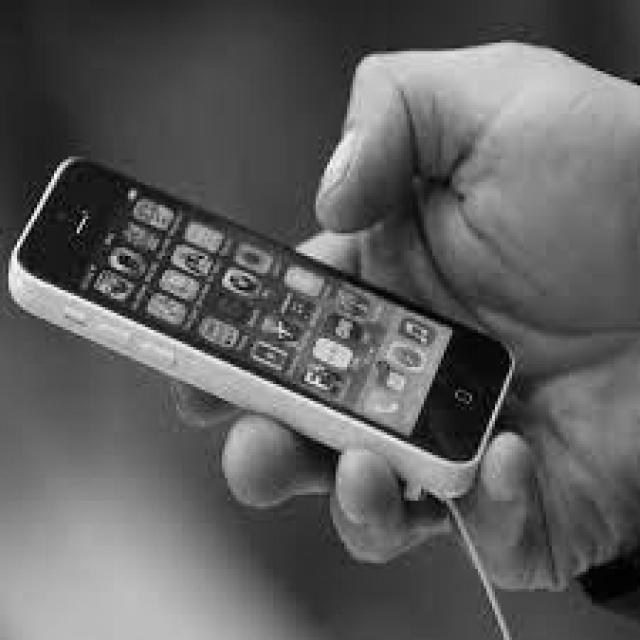No gun_phone: (8, 158, 517, 499)
